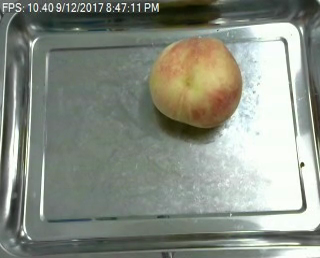Peach: (149, 35, 242, 127)
